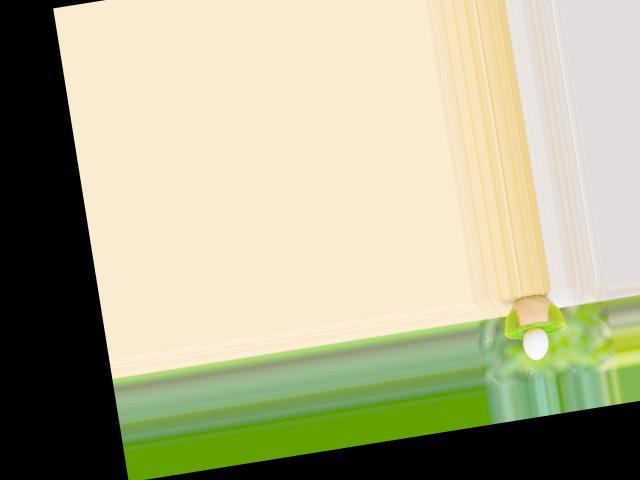egg: (521, 325, 551, 360)
